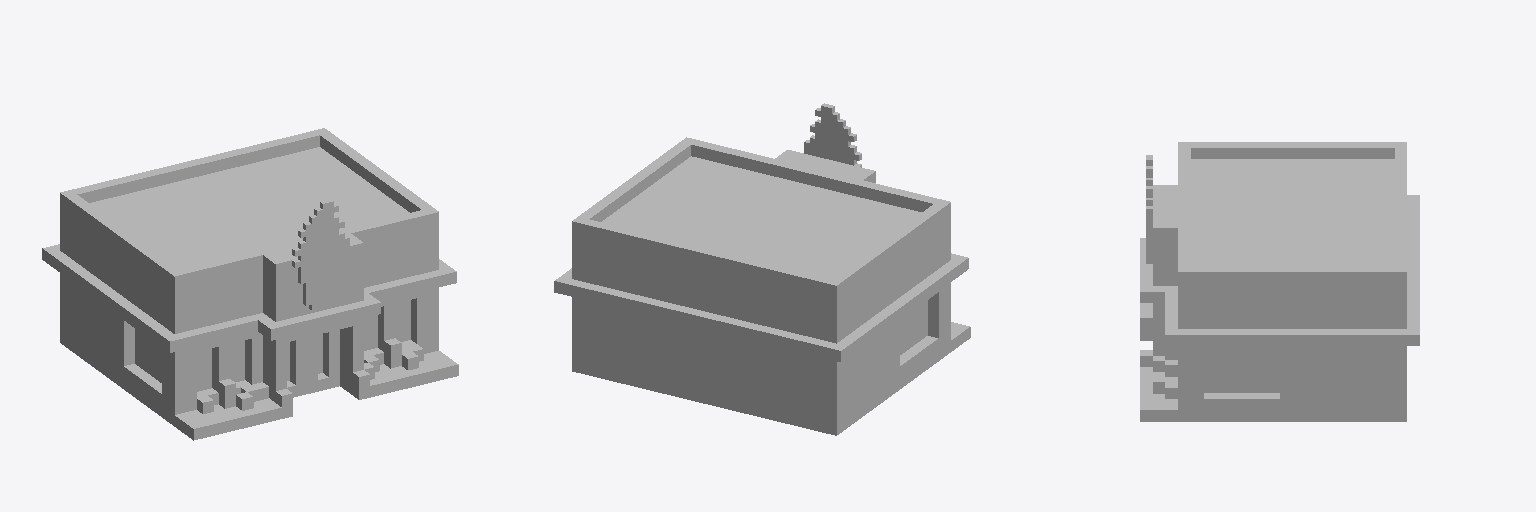
Rendered from ice_cream_store.obj.
3 views of the same model, side by side, from view 1: azimuth 30°, elevation 25°; view 2: azimuth 150°, elevation 25°; view 3: azimuth 270°, elevation 25° (orthographic).
Bounding box in the file's own units: 52 × 35 × 44.